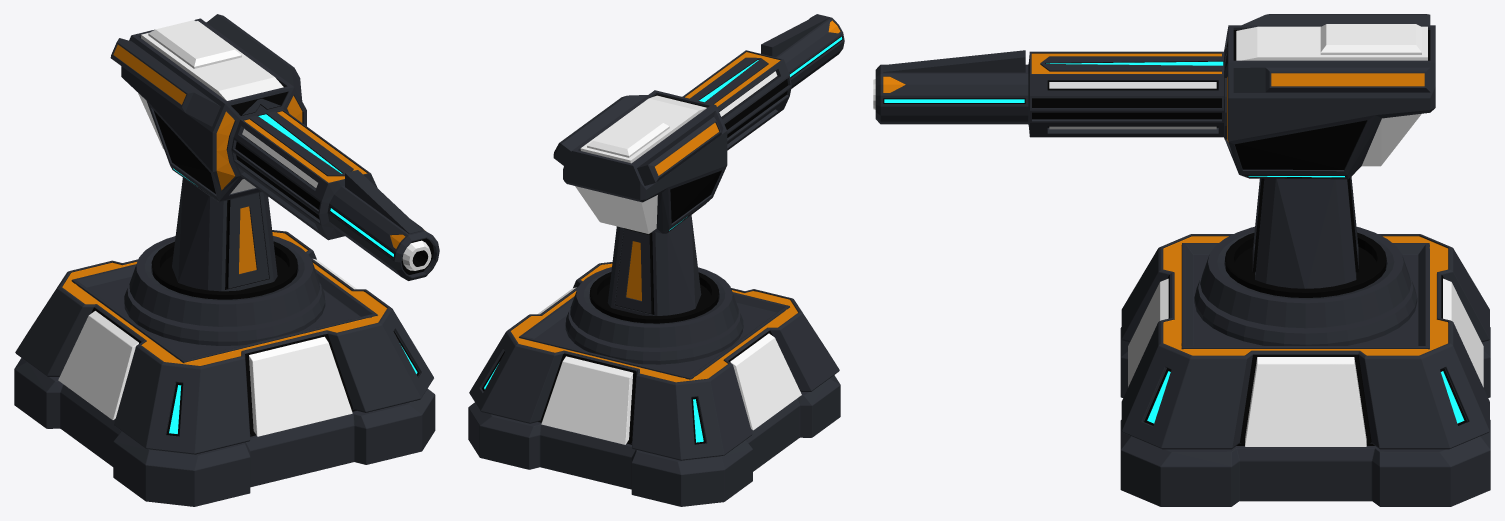
File: SM_Turret_Longshot.fbx
3 views of the same model, side by side, from view 1: azimuth 30°, elevation 25°; view 2: azimuth 150°, elevation 25°; view 3: azimuth 270°, elevation 25° (orthographic). The views are drawn at different scales.
Visible parts, largest first — view 1: SM_Turret_Longshot_Base, SM_Turret_Longshot_Weapon; view 2: SM_Turret_Longshot_Base, SM_Turret_Longshot_Weapon; view 3: SM_Turret_Longshot_Weapon, SM_Turret_Longshot_Base.
Boxes of the visible parts, box(x1,y1,x2,y2) form: SM_Turret_Longshot_Base: box(14, 230, 435, 506); SM_Turret_Longshot_Weapon: box(110, 14, 439, 345); SM_Turret_Longshot_Base: box(468, 262, 840, 506); SM_Turret_Longshot_Weapon: box(553, 14, 844, 364); SM_Turret_Longshot_Weapon: box(873, 14, 1435, 345); SM_Turret_Longshot_Base: box(1120, 234, 1490, 506).
Bounding box in the file's own units: 100 × 118 × 167.
